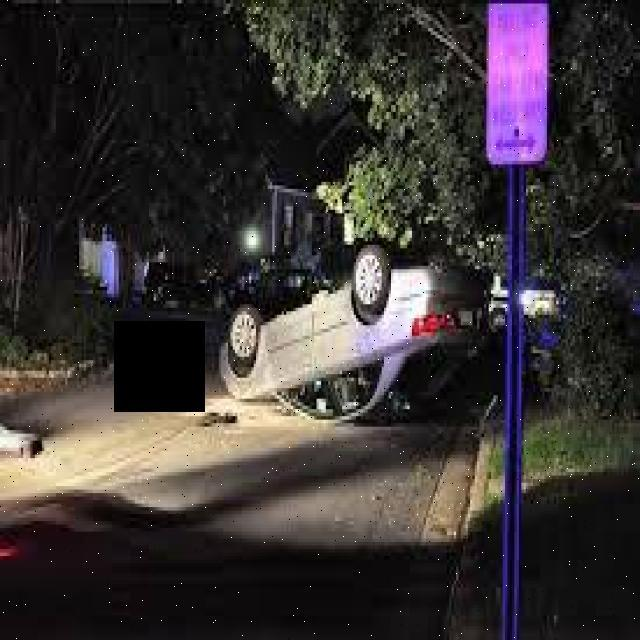severe: (214, 243, 496, 432)
